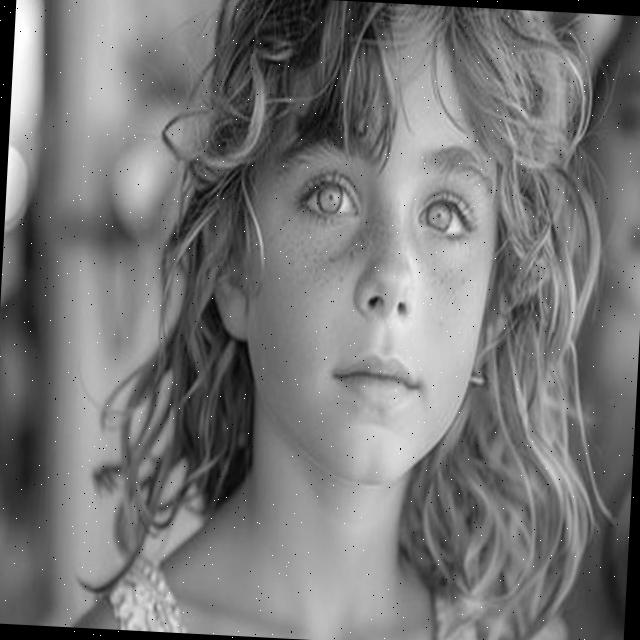Neutral: (240, 32, 504, 490)
